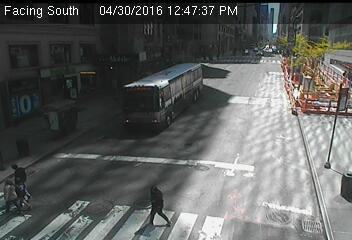neg: (31, 90, 80, 155), (249, 118, 290, 173), (191, 155, 229, 205), (197, 66, 232, 113), (134, 74, 161, 110), (67, 33, 94, 69), (96, 126, 122, 160), (274, 61, 299, 95), (297, 185, 322, 218), (242, 23, 265, 54), (129, 28, 145, 50)
pos: (135, 181, 170, 227), (1, 181, 25, 213), (9, 159, 33, 190)
